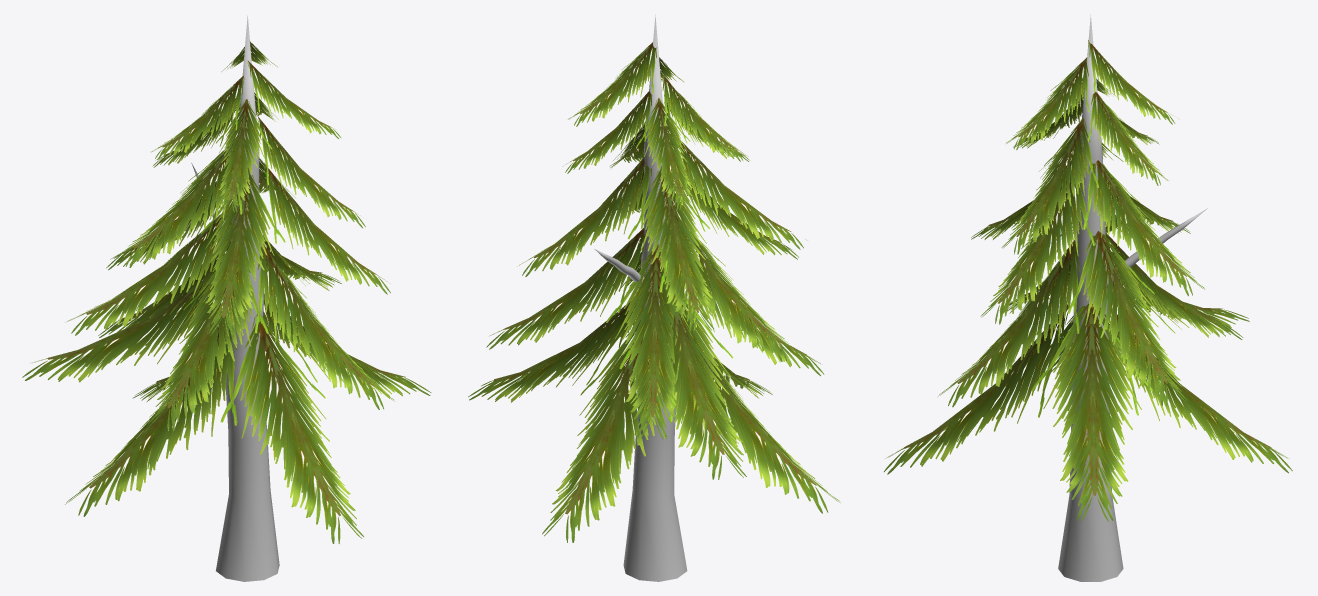
File: SM_Tree_001.fbx
The picture shows the model from 3 angles, left to right: view 1: azimuth 30°, elevation 25°; view 2: azimuth 150°, elevation 25°; view 3: azimuth 270°, elevation 25°; orthographic projection.
Parts seen in each view (by area): view 1: SM_PineTree_001; view 2: SM_PineTree_001; view 3: SM_PineTree_001.
Boxes of the visible parts, x1=… form: SM_PineTree_001: x1=22, y1=15, x2=431, y2=581; SM_PineTree_001: x1=468, y1=14, x2=840, y2=581; SM_PineTree_001: x1=884, y1=14, x2=1292, y2=581.
Bounding box in the file's own units: 734 × 1036 × 729.
